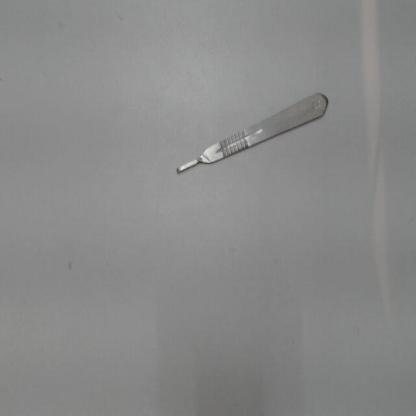No.3 BP Handle: (167, 76, 334, 186)
